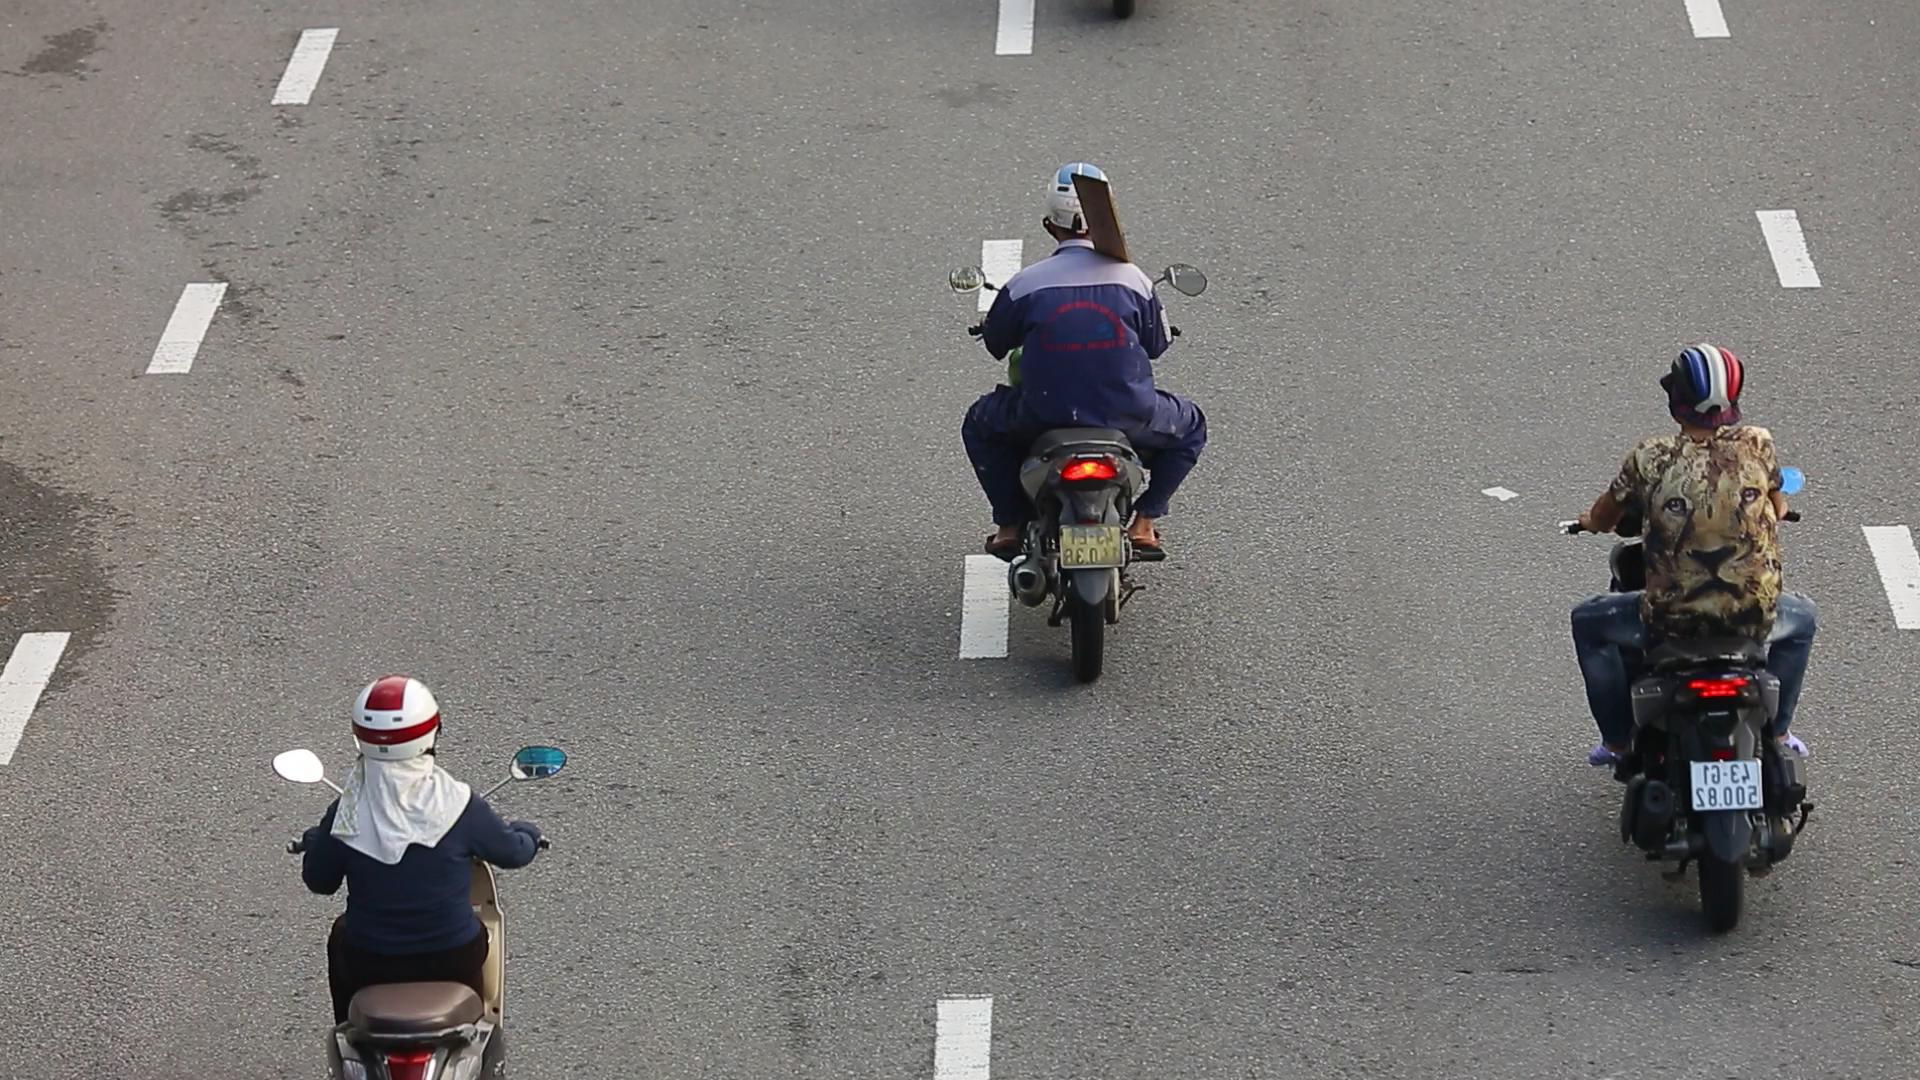motobike: (1539, 335, 1845, 952), (922, 146, 1212, 690)
